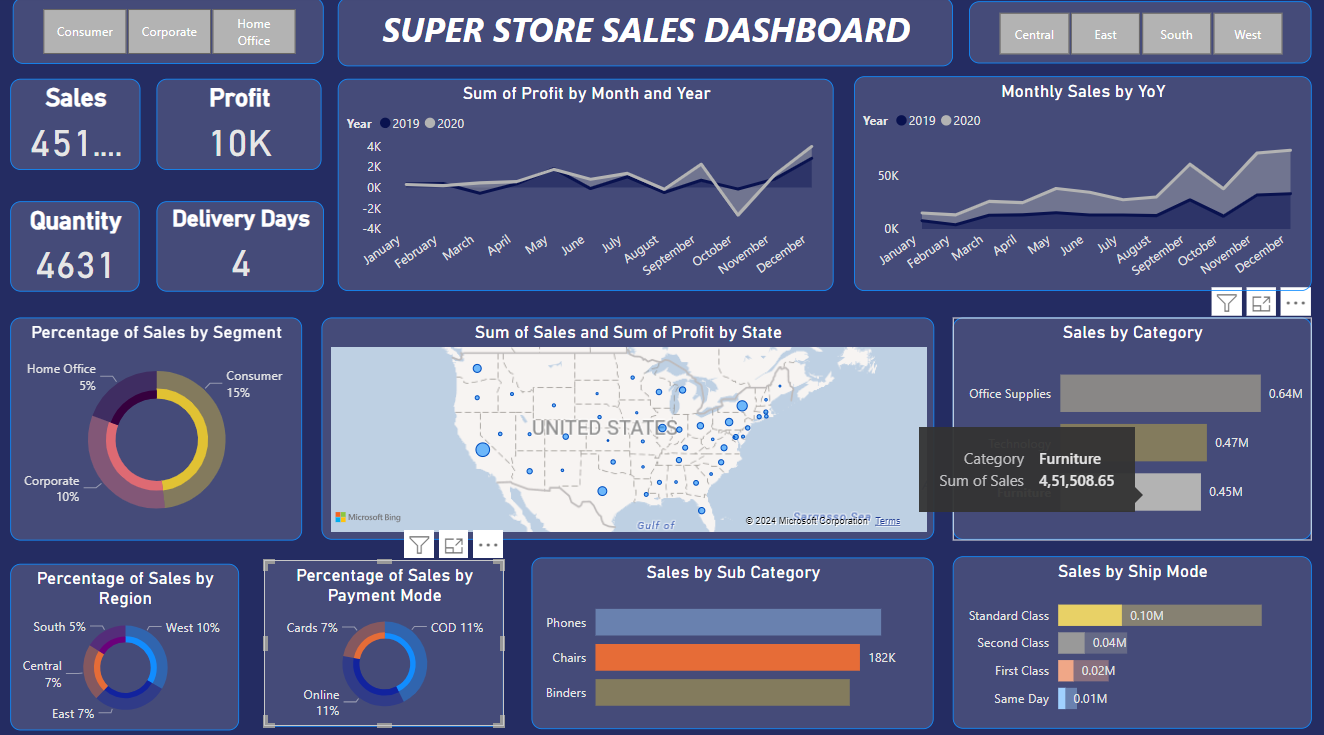

This screenshot's page, from the dashboard's own definition file:
{"tool":"powerbi","page":{"name":"Page 1","canvas":[1280,720],"ordinal":0},"visuals":[{"type":"clusteredBarChart","title":"Sales by Category","fields":{"Category":["SuperStore_Sales_Dataset.Category"],"Y":["Sum(SuperStore_Sales_Dataset.Sales)"]},"box":[920.2,311.2,346.1,214.7],"z":0},{"type":"clusteredBarChart","title":"Sales by Sub Category","fields":{"Category":["SuperStore_Sales_Dataset.Sub-Category"],"Y":["Sum(SuperStore_Sales_Dataset.Sales)"]},"box":[513.8,542.7,388.3,165.2],"z":1000},{"type":"clusteredBarChart","title":"Sales by Ship Mode","fields":{"Category":["SuperStore_Sales_Dataset.Ship Mode"],"Y":["Sum(SuperStore_Sales_Dataset.Sales)"]},"box":[920,541.2,346.2,166.2],"z":2000},{"type":"stackedAreaChart","title":"Monthly Sales by YoY","fields":{"Y":["Sum(SuperStore_Sales_Dataset.Sales)"],"Category":["SuperStore_Sales_Dataset.Order Date.Variation.Date Hierarchy.Month","SuperStore_Sales_Dataset.Order Date.Variation.Date Hierarchy.Day"],"Series":["SuperStore_Sales_Dataset.Order Date.Variation.Date Hierarchy.Year"]},"box":[825,78.8,441.2,207.5],"z":3000},{"type":"stackedAreaChart","fields":{"Category":["SuperStore_Sales_Dataset.Order Date.Variation.Date Hierarchy.Month","SuperStore_Sales_Dataset.Order Date.Variation.Date Hierarchy.Day"],"Series":["SuperStore_Sales_Dataset.Order Date.Variation.Date Hierarchy.Year"],"Y":["Sum(SuperStore_Sales_Dataset.Profit)"]},"box":[326.2,81.2,478.8,205],"z":4000},{"type":"map","fields":{"Category":["SuperStore_Sales_Dataset.State"],"Size":["Sum(SuperStore_Sales_Dataset.Sales)"]},"box":[311.2,311.2,591,214.7],"z":5000},{"type":"donutChart","title":"Percentage of Sales by Segment","fields":{"Category":["SuperStore_Sales_Dataset.Segment"],"Y":["Sum(SuperStore_Sales_Dataset.Sales)"]},"box":[11.2,311.2,281.2,215],"z":6000},{"type":"donutChart","title":"Percentage of Sales by Payment Mode","fields":{"Category":["SuperStore_Sales_Dataset.Payment Mode"],"Y":["Sum(SuperStore_Sales_Dataset.Sales)"]},"box":[255.7,545.1,231.6,160.4],"z":7000},{"type":"slicer","fields":{"Values":["SuperStore_Sales_Dataset.Region"]},"box":[936.2,6.2,330,60],"z":8000},{"type":"textbox","box":[326.2,2.5,593.8,66.2],"z":9000},{"type":"card","title":"Sales","fields":{"Values":["Sum(SuperStore_Sales_Dataset.Sales)"]},"box":[11.2,81.2,125,87.5],"z":10000},{"type":"card","title":"Quantity","fields":{"Values":["Sum(SuperStore_Sales_Dataset.Quantity)"]},"box":[11.2,198.8,125,87.5],"z":11000},{"type":"card","title":"Profit","fields":{"Values":["Sum(SuperStore_Sales_Dataset.Profit)"]},"box":[161.2,81.2,152.5,87.5],"z":12000},{"type":"card","title":"Delivery Days","fields":{"Values":["Avg(SuperStore_Sales_Dataset.AvgDelievery)"]},"box":[162.5,198.8,151.2,87.5],"z":13000},{"type":"donutChart","title":"Percentage of Sales by Region","fields":{"Category":["SuperStore_Sales_Dataset.Region"],"Y":["Sum(SuperStore_Sales_Dataset.Sales)"]},"box":[10.9,548.7,220.7,160.4],"z":14000},{"type":"slicer","fields":{"Values":["SuperStore_Sales_Dataset.Segment"]},"box":[11.2,2.5,300,63.8],"z":15000}]}

Visuals, with their boxes in screenshot pixels (x1, y1, x2, y2), scaled from the page's 1280x720 canvas onto the 1324x735 screenshot:
"Sales by Category" clusteredBarChart: {"left": 952, "top": 318, "right": 1310, "bottom": 537}
"Sales by Sub Category" clusteredBarChart: {"left": 531, "top": 554, "right": 933, "bottom": 723}
"Sales by Ship Mode" clusteredBarChart: {"left": 952, "top": 552, "right": 1310, "bottom": 722}
"Monthly Sales by YoY" stackedAreaChart: {"left": 853, "top": 80, "right": 1310, "bottom": 292}
stackedAreaChart - SuperStore_Sales_Dataset.Order Date.Variation.Date Hierarchy.Month x SuperStore_Sales_Dataset.Order Date.Variation.Date Hierarchy.Day: {"left": 337, "top": 83, "right": 833, "bottom": 292}
map - SuperStore_Sales_Dataset.State x Sum(SuperStore_Sales_Dataset.Sales): {"left": 322, "top": 318, "right": 933, "bottom": 537}
"Percentage of Sales by Segment" donutChart: {"left": 12, "top": 318, "right": 302, "bottom": 537}
"Percentage of Sales by Payment Mode" donutChart: {"left": 264, "top": 556, "right": 504, "bottom": 720}
slicer - SuperStore_Sales_Dataset.Region: {"left": 968, "top": 6, "right": 1310, "bottom": 68}
textbox: {"left": 337, "top": 3, "right": 952, "bottom": 70}
"Sales" card: {"left": 12, "top": 83, "right": 141, "bottom": 172}
"Quantity" card: {"left": 12, "top": 203, "right": 141, "bottom": 292}
"Profit" card: {"left": 167, "top": 83, "right": 324, "bottom": 172}
"Delivery Days" card: {"left": 168, "top": 203, "right": 324, "bottom": 292}
"Percentage of Sales by Region" donutChart: {"left": 11, "top": 560, "right": 240, "bottom": 724}
slicer - SuperStore_Sales_Dataset.Segment: {"left": 12, "top": 3, "right": 322, "bottom": 68}
